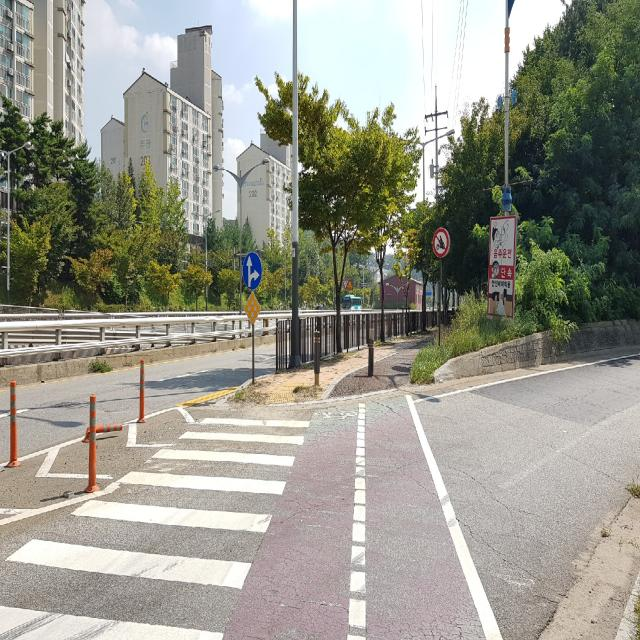횡단보도: (0, 415, 313, 640)
